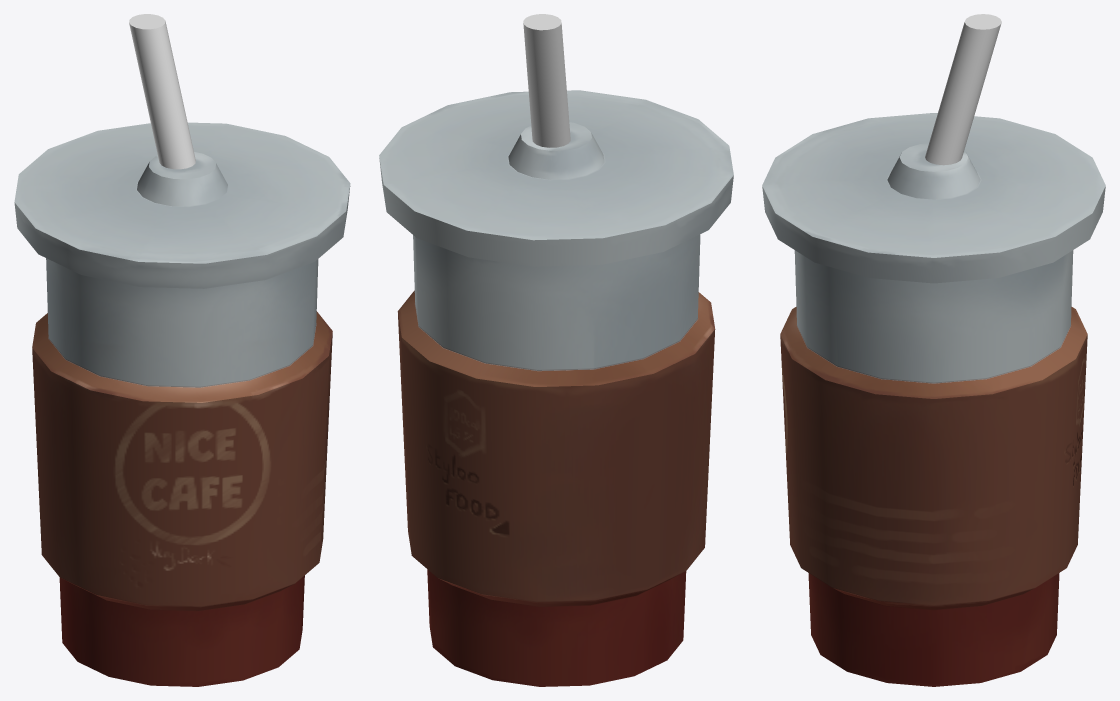
File: source.glb
3 views of the same model, side by side, from view 1: azimuth 30°, elevation 25°; view 2: azimuth 150°, elevation 25°; view 3: azimuth 270°, elevation 25° (orthographic). The views are drawn at different scales.
Visible parts, largest first — view 1: cafenice, Cylinder.008; view 2: cafenice, Cylinder.008; view 3: cafenice, Cylinder.008.
Part boxes in pixels (<box>): cafenice: <box>14,122,350,686</box>; Cylinder.008: <box>129,14,195,169</box>; cafenice: <box>379,90,733,686</box>; Cylinder.008: <box>523,14,570,147</box>; cafenice: <box>762,113,1105,686</box>; Cylinder.008: <box>925,14,1001,165</box>.
Bounding box in the file's own units: 0.1836 × 0.3582 × 0.1836.
Materials: 1 (1 with a texture image).
